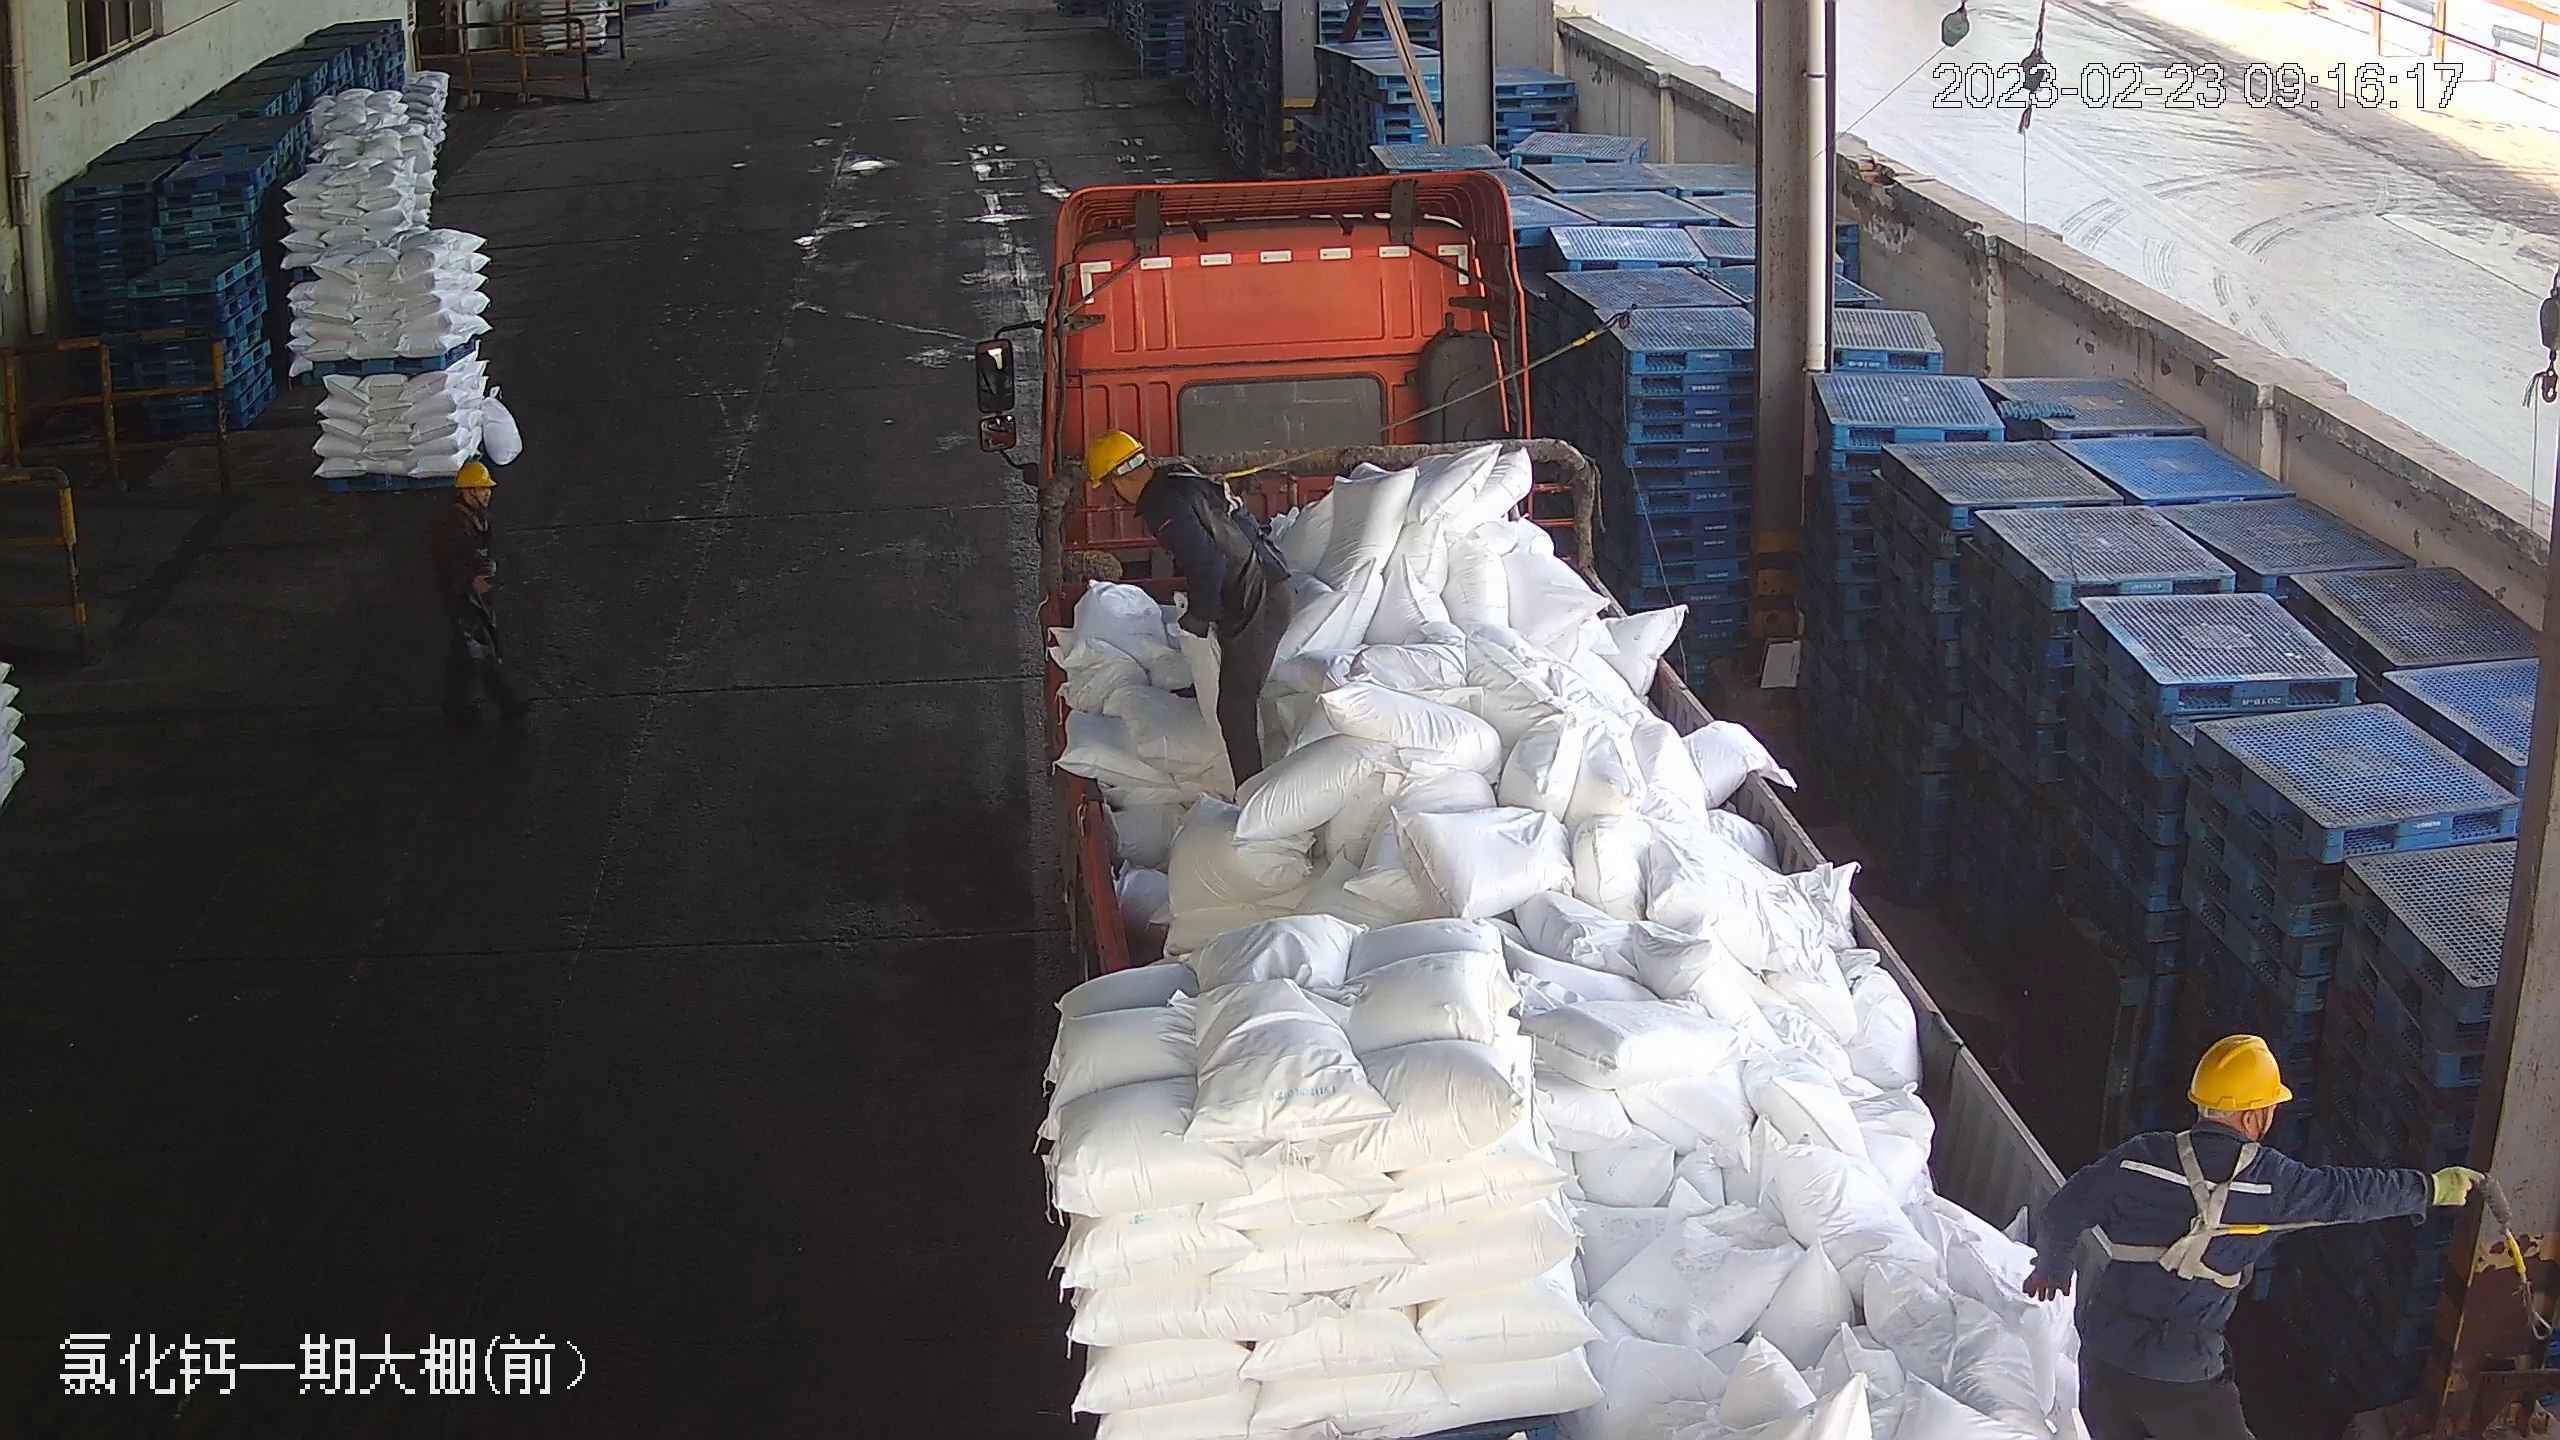belt: (2106, 1122, 2271, 1284), (1166, 446, 1278, 524), (456, 502, 497, 538)
head: (2087, 1032, 2306, 1220), (1080, 424, 1239, 549), (432, 456, 504, 547)
helmet: (2185, 1029, 2292, 1113), (1079, 425, 1146, 488), (451, 455, 496, 490)
people: (2023, 1027, 2307, 1438), (1080, 424, 1302, 805), (427, 457, 530, 740)
truck: (985, 171, 2251, 1433)
